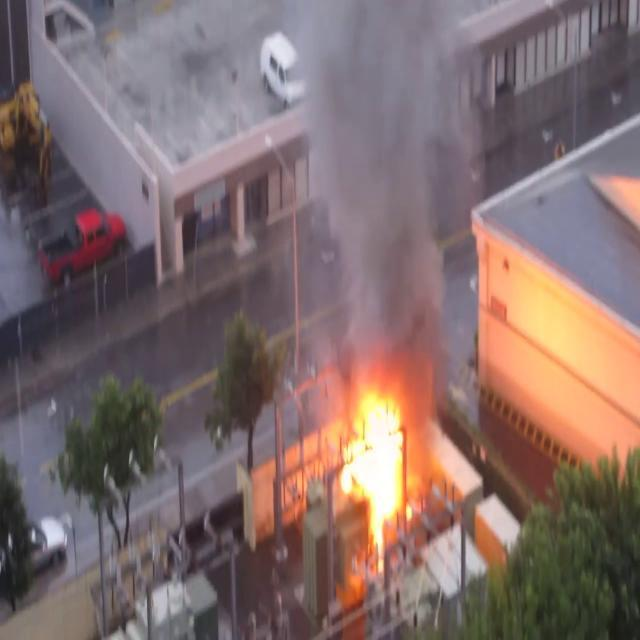Fire: (299, 374, 419, 554)
Smoke: (289, 0, 481, 385)
